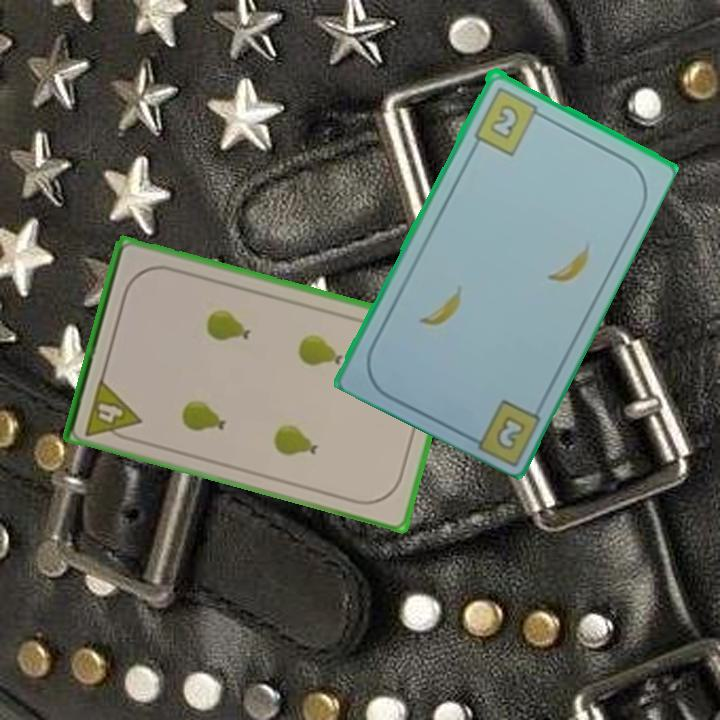2b: (470, 82, 548, 158), (492, 411, 528, 453)
4p: (82, 374, 144, 445)
